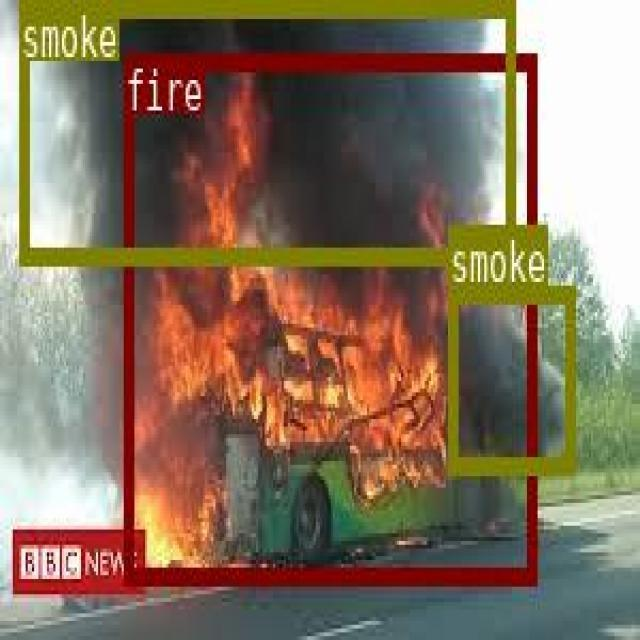fire: (122, 51, 534, 581)
smoke: (17, 0, 514, 259), (446, 283, 572, 469)
